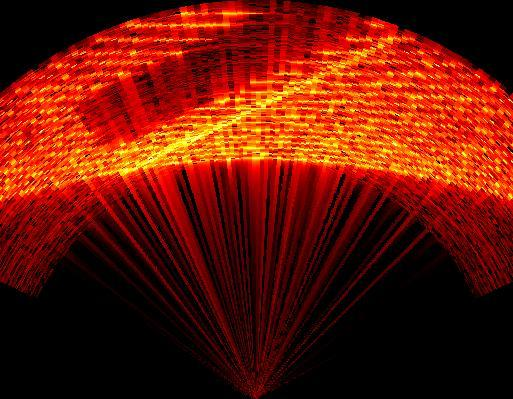pipe: (76, 1, 372, 153)
